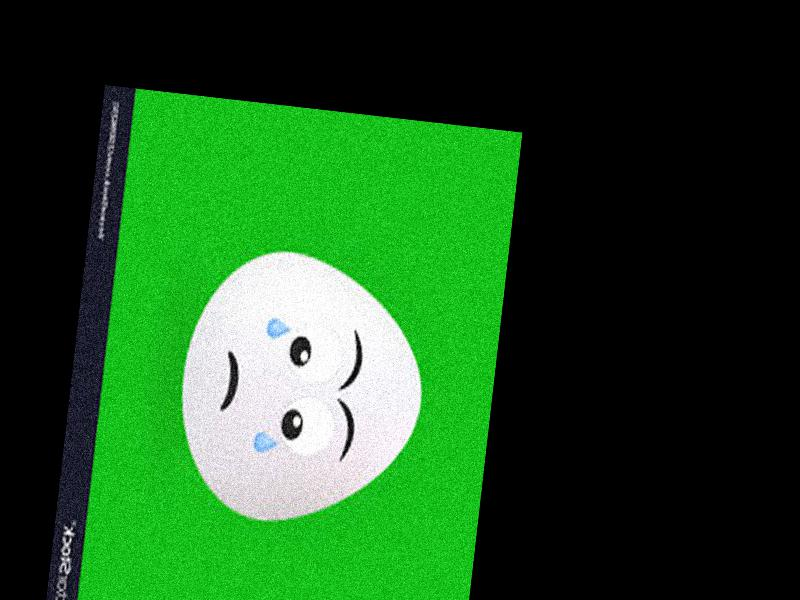Eggs: (168, 244, 433, 538)
